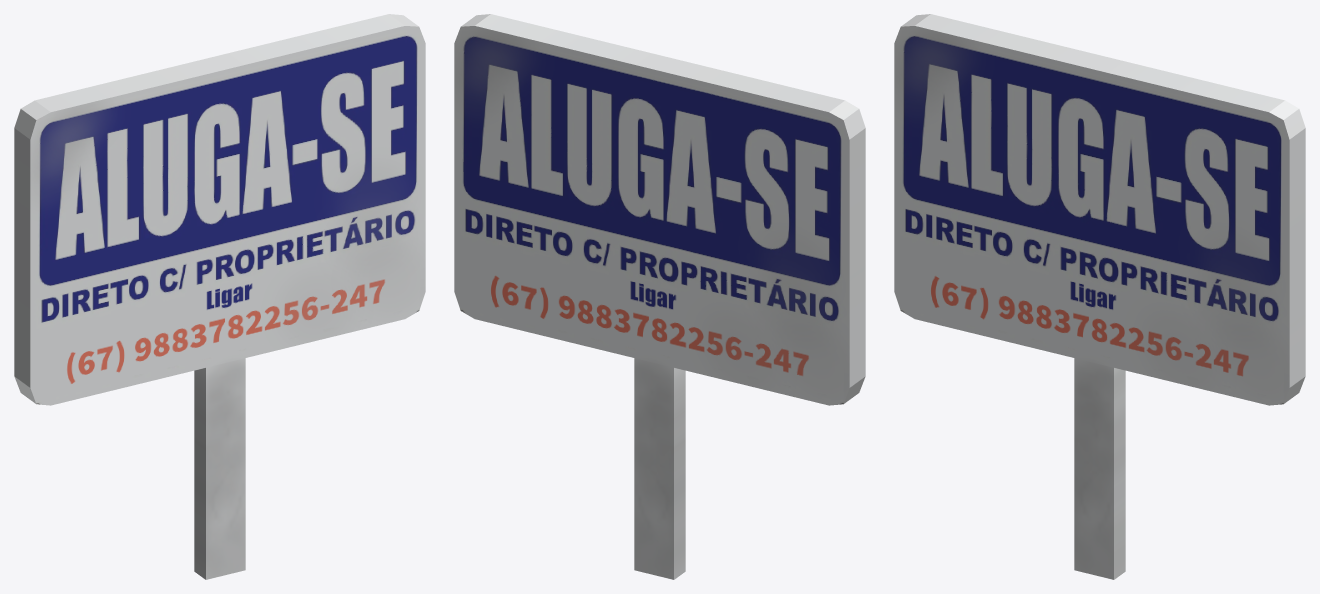
The model's file is PlacaAluga-se.fbx.
3 views of the same model, side by side, from view 1: azimuth 30°, elevation 25°; view 2: azimuth 150°, elevation 25°; view 3: azimuth 330°, elevation 25° (orthographic).
Parts seen in each view (by area): view 1: Placa-Aluga-se-14; view 2: Placa-Aluga-se-14; view 3: Placa-Aluga-se-14.
Boxes of the visible parts, x1,y1,x2,y2 form: Placa-Aluga-se-14: (14,14,425,579); Placa-Aluga-se-14: (454,14,865,579); Placa-Aluga-se-14: (894,14,1305,579).
Size of the model in its own units: 1.17 by 1.44 by 0.083.
